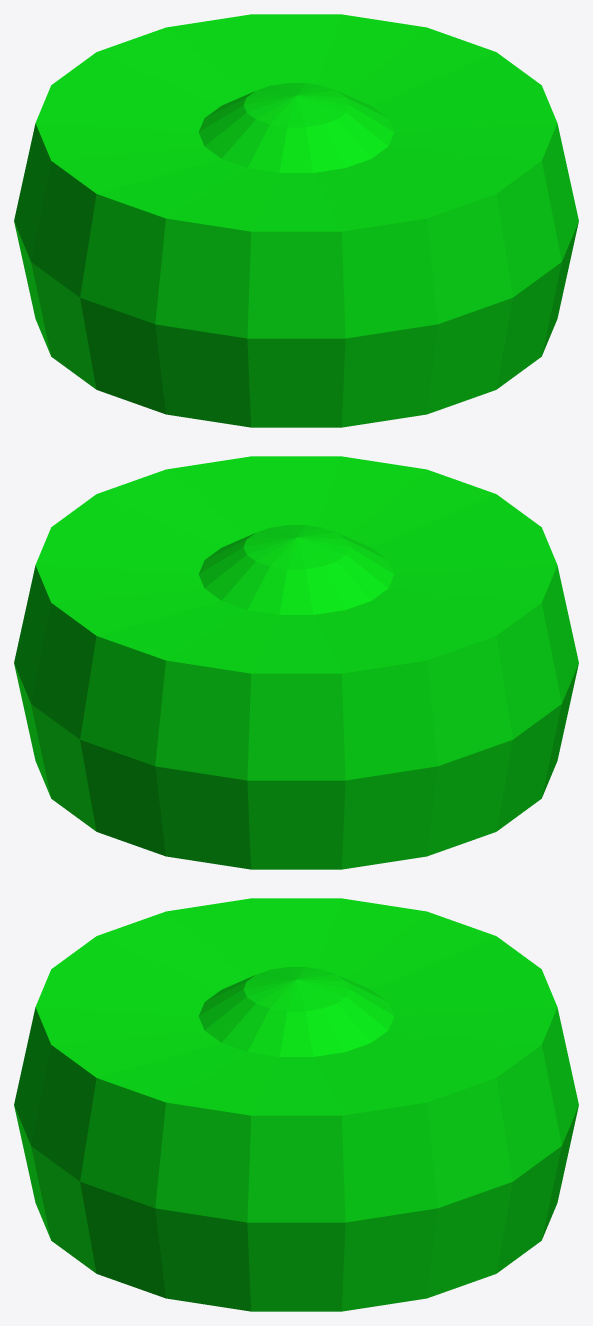
The model's file is No5Yokodasi.fbx.
3 renders of one model, top to bottom at view 1: azimuth 30°, elevation 25°; view 2: azimuth 150°, elevation 25°; view 3: azimuth 270°, elevation 25°, orthographic.
Visible parts, largest first — view 1: No5Yokodasi; view 2: No5Yokodasi; view 3: No5Yokodasi.
Part boxes in pixels (x1,y1,x2,y2): No5Yokodasi: (14,14,578,427); No5Yokodasi: (14,456,578,869); No5Yokodasi: (14,898,578,1311).
Size of the model in its own units: 402 by 200 by 408.
